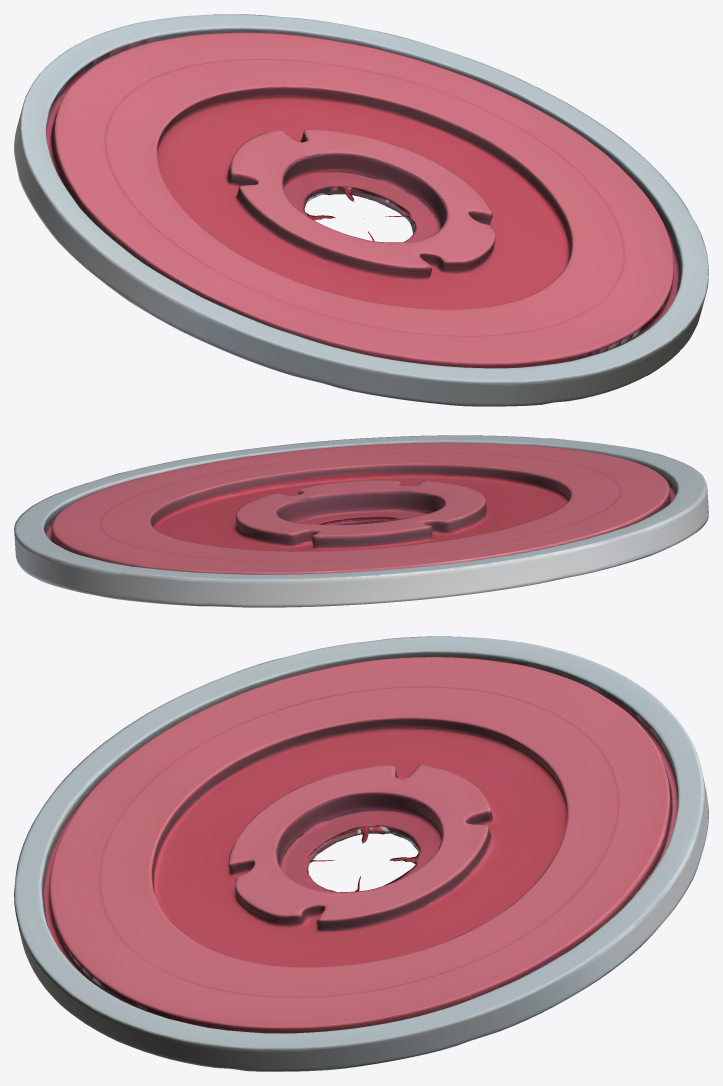
File: Pink Shield.fbx
3 views of the same model, one above another, from view 1: azimuth 30°, elevation 25°; view 2: azimuth 150°, elevation 25°; view 3: azimuth 270°, elevation 25° (orthographic). The views are drawn at different scales.
Visible parts, largest first — view 1: Pink Shield; view 2: Pink Shield; view 3: Pink Shield.
Boxes of the visible parts, <box> form: Pink Shield: <box>14,14,708,406</box>; Pink Shield: <box>14,435,708,607</box>; Pink Shield: <box>14,636,708,1071</box>.
Bounding box in the file's own units: 67.72 × 19.25 × 67.7.
